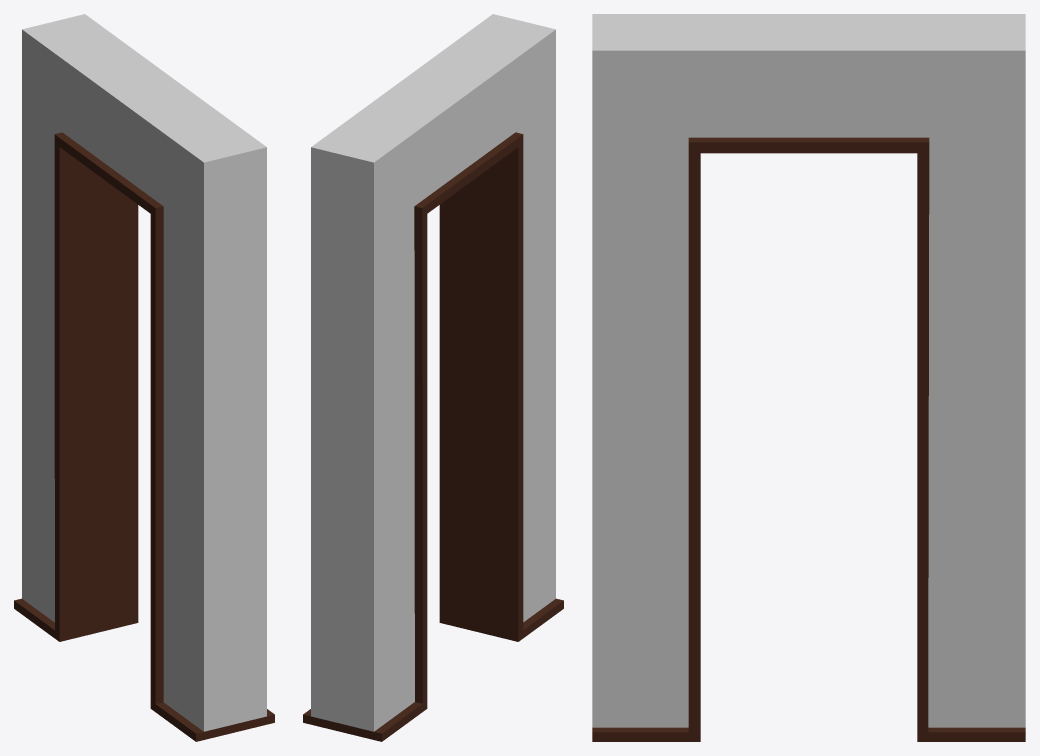
File: wallDoor.fbx
3 views of the same model, side by side, from view 1: azimuth 30°, elevation 25°; view 2: azimuth 150°, elevation 25°; view 3: azimuth 270°, elevation 25° (orthographic). The views are drawn at different scales.
Visible parts, largest first — view 1: wallDoor; view 2: wallDoor; view 3: wallDoor.
Part boxes in pixels (x1=…): wallDoor: x1=14, y1=14, x2=274, y2=741; wallDoor: x1=303, y1=14, x2=563, y2=741; wallDoor: x1=592, y1=14, x2=1025, y2=741.
Size of the model in its own units: 100 by 700 by 400.
